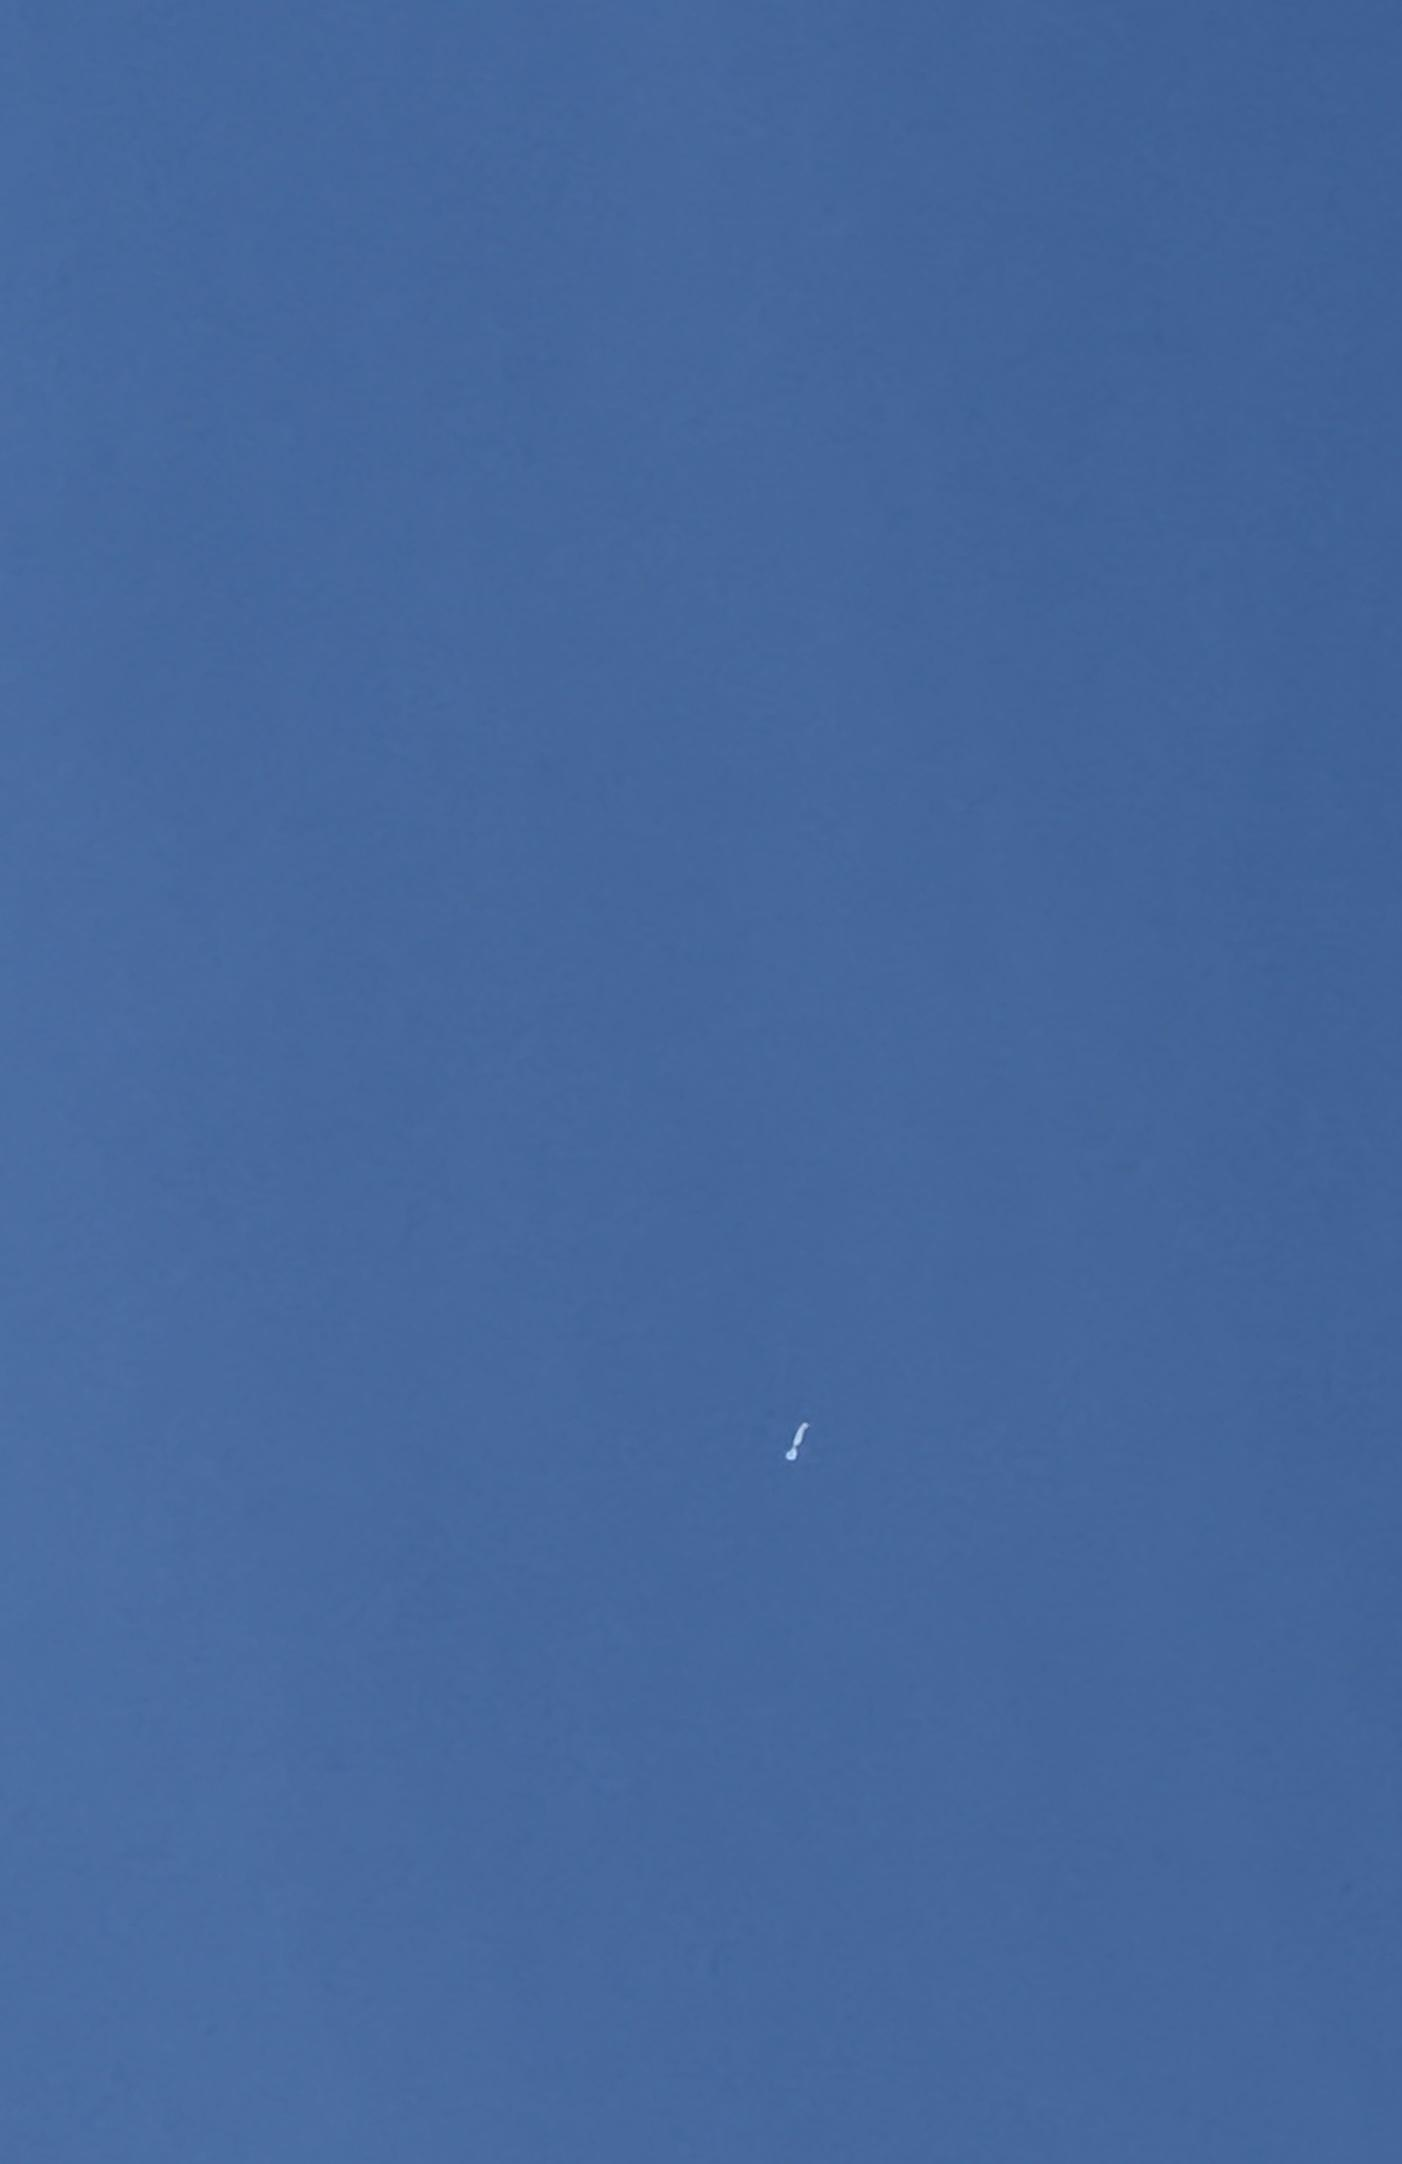Plane: (762, 1396, 859, 1461)
